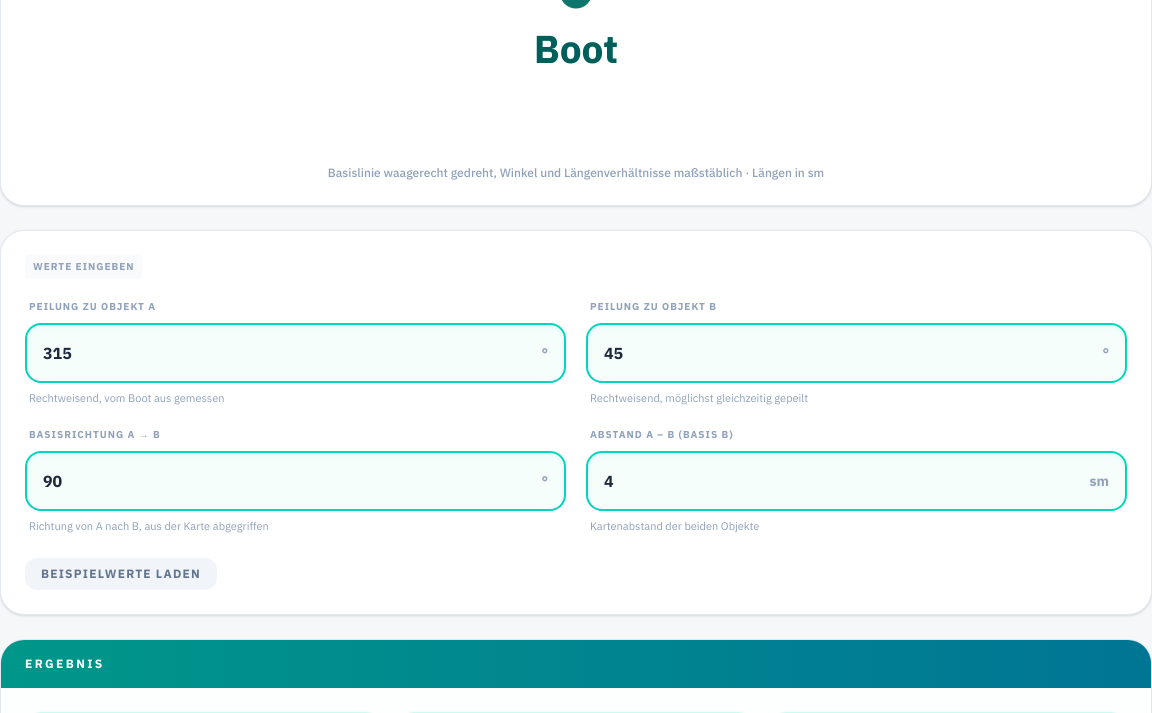
Test case: KreuzpeilungRechner › schleifender Schnitt wird als Warnung neben dem Ergebnis gezeigt
The width and height of the screenshot is (1152, 713).
(page scrolled)
Step 1. Replace the text in the number field labelled "Peilung zu Objekt B" with "320" → (856, 354), box [588, 326, 1125, 382]
(page scrolled)
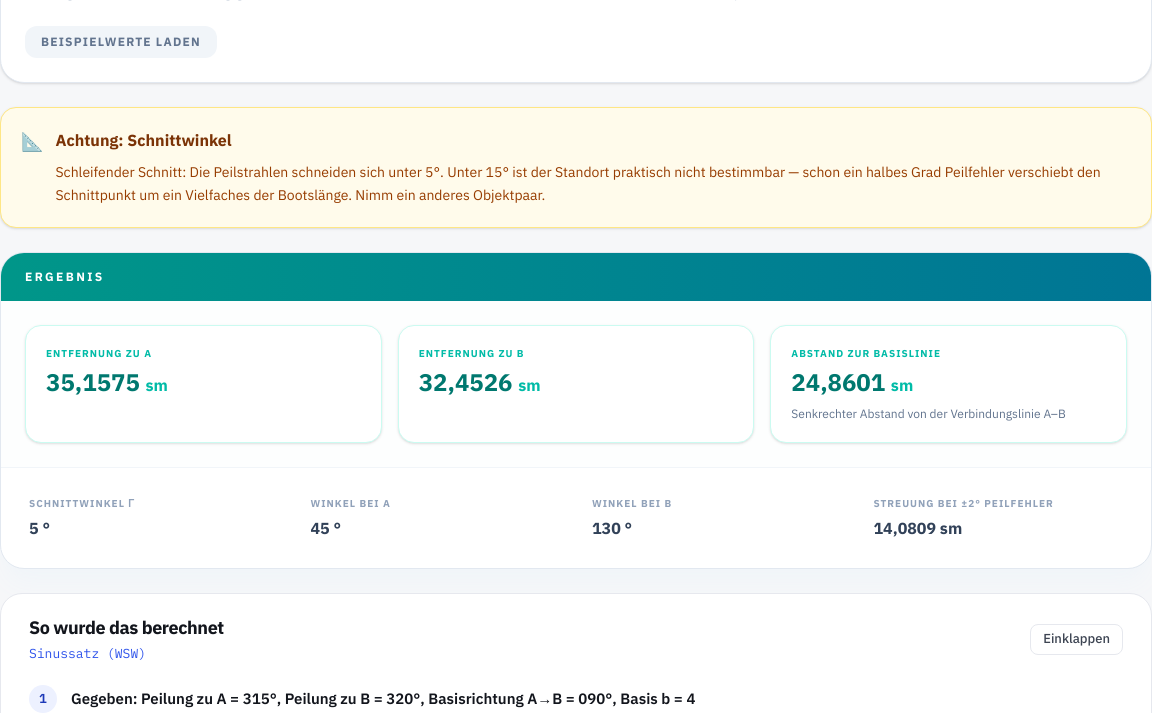
Expected: the text "Abstand zur Basislinie" is shown, [791, 347, 941, 360]
Result: the text "Schleifender Schnitt" is shown at [56, 163, 1101, 204]
